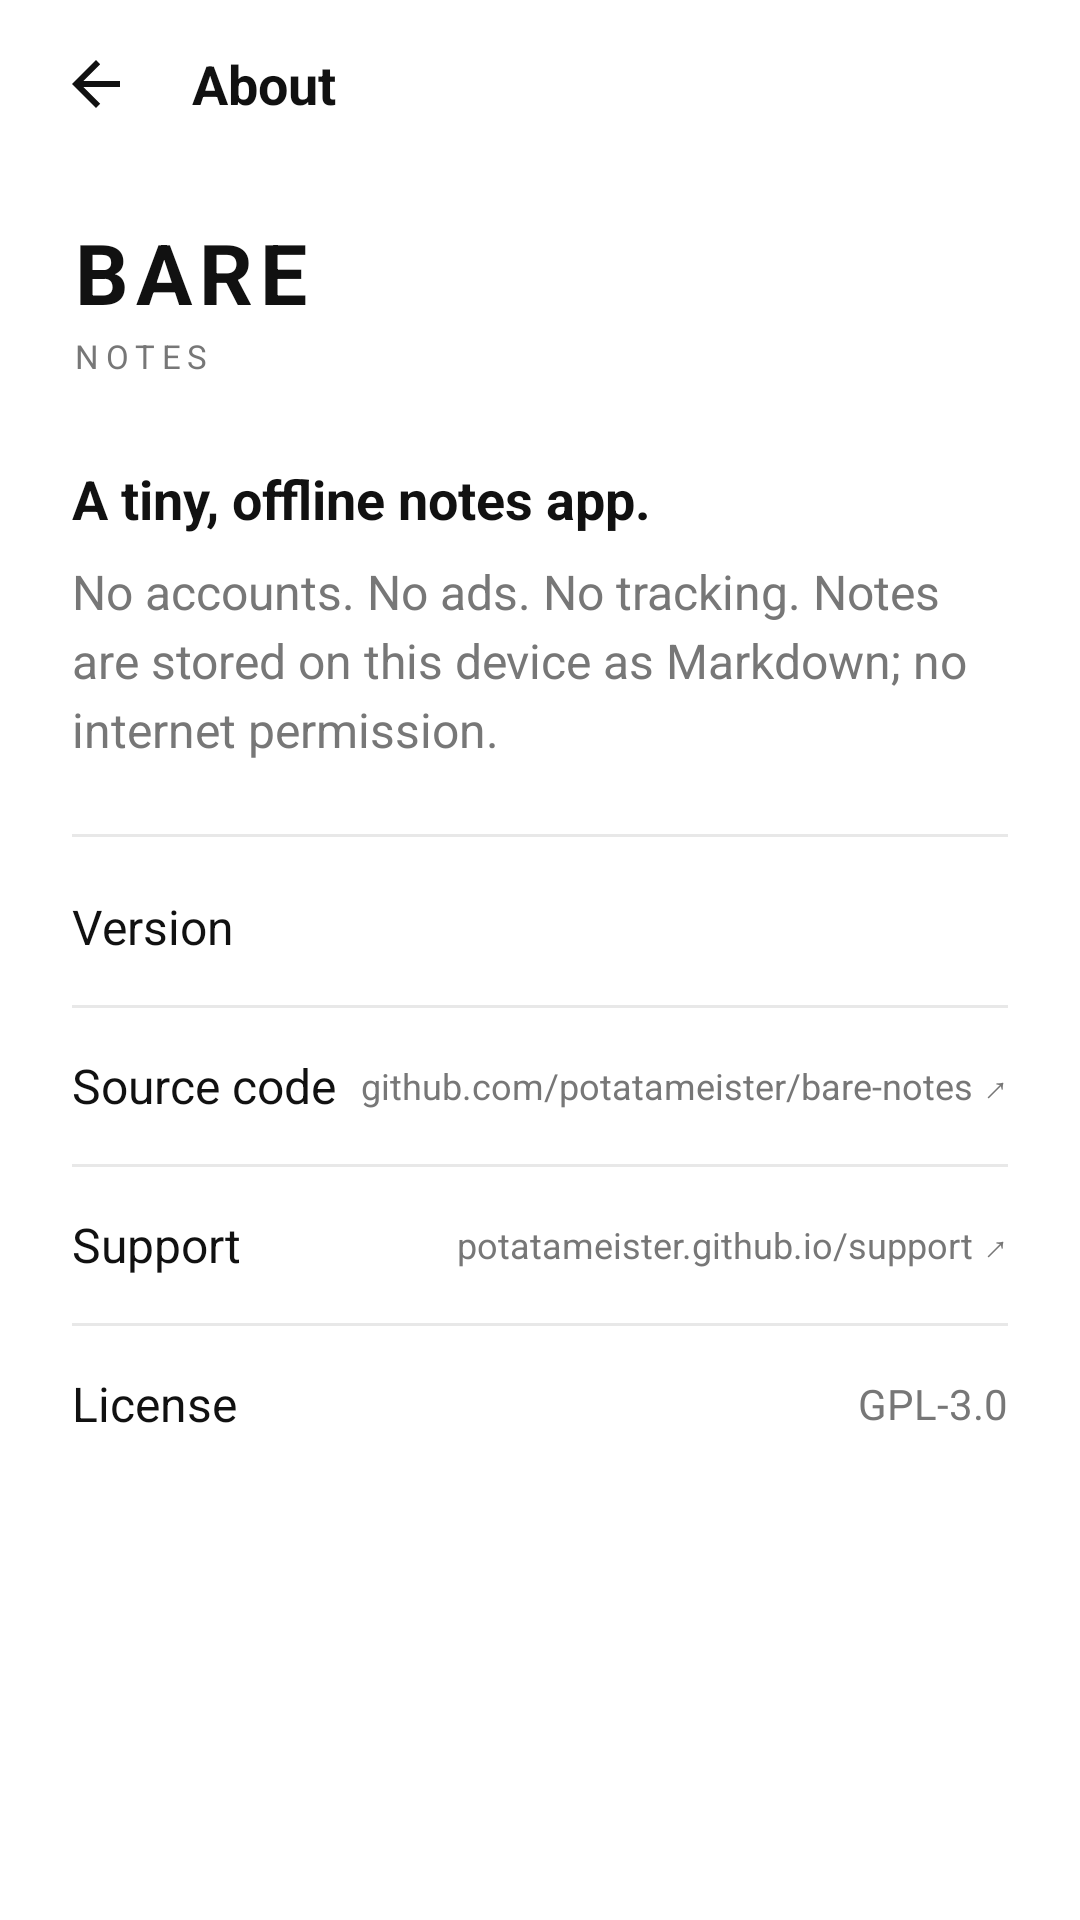

Icons on this 1080px×1920px Android screen, each with its box as (x1, y1, x2, y2):
Back: (72, 60, 120, 108)
